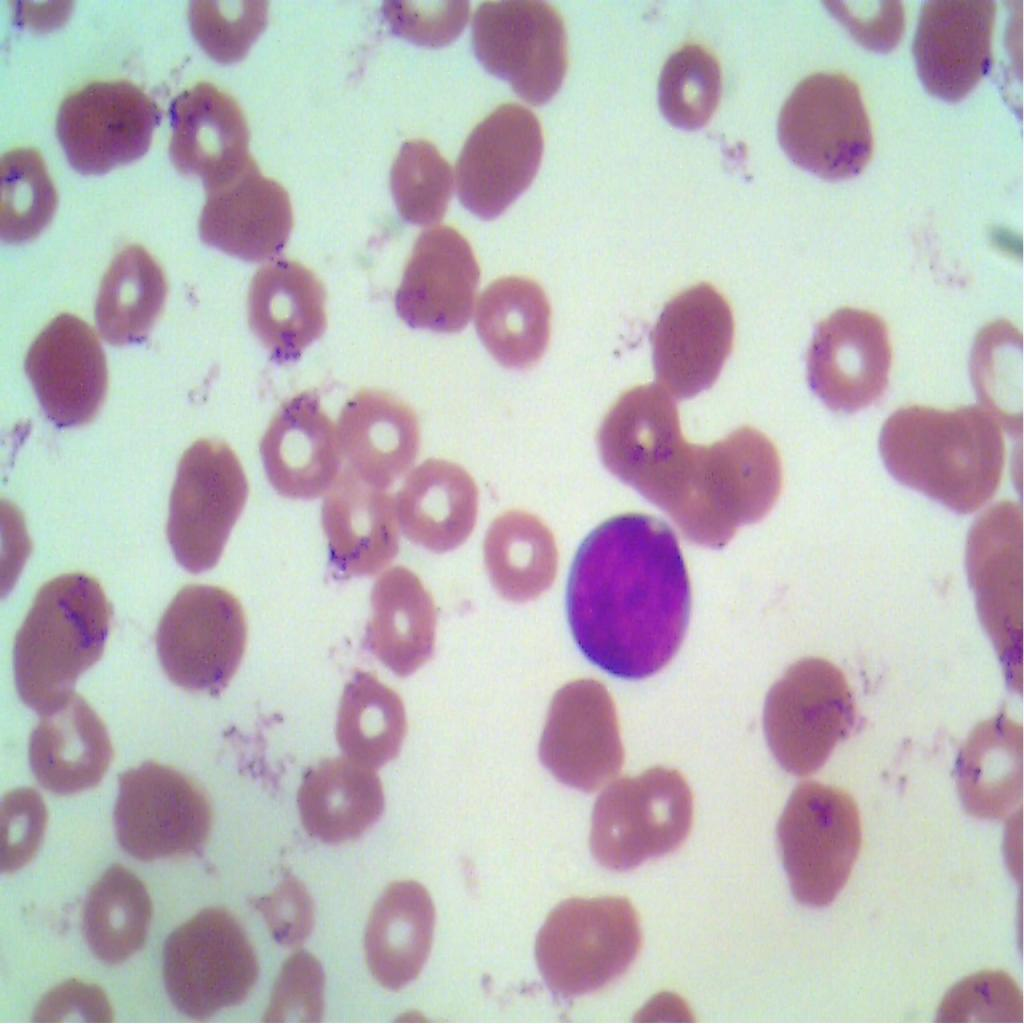Eritrosit: (524, 865, 638, 1001), (781, 59, 891, 198), (46, 68, 166, 189), (458, 101, 566, 235), (158, 898, 266, 1023), (474, 4, 588, 122), (771, 780, 862, 922), (160, 428, 246, 577), (115, 748, 218, 871), (758, 639, 855, 768), (534, 662, 630, 788), (162, 583, 263, 701), (654, 271, 734, 414), (202, 154, 304, 264), (924, 402, 1013, 527), (646, 24, 742, 138), (811, 296, 896, 424), (318, 462, 411, 575), (18, 307, 106, 426), (650, 445, 741, 559), (594, 381, 682, 497), (282, 751, 394, 842), (244, 258, 336, 368), (24, 696, 113, 808), (164, 77, 248, 194), (358, 868, 444, 982), (954, 694, 1023, 836), (391, 230, 488, 331), (908, 5, 1002, 109), (466, 274, 562, 375), (481, 492, 563, 610), (12, 607, 90, 728), (334, 378, 418, 488), (76, 867, 170, 964), (710, 411, 781, 531), (86, 252, 169, 351), (363, 558, 434, 672), (338, 675, 421, 771), (259, 394, 342, 490), (28, 562, 114, 654), (886, 394, 966, 492), (955, 310, 1023, 424), (402, 456, 482, 552), (953, 495, 1023, 600), (386, 127, 454, 227), (584, 768, 650, 870), (0, 138, 55, 252), (629, 755, 696, 848), (263, 944, 339, 1023), (0, 785, 58, 868), (262, 872, 316, 950)
Limfoblast: (566, 506, 700, 696)
